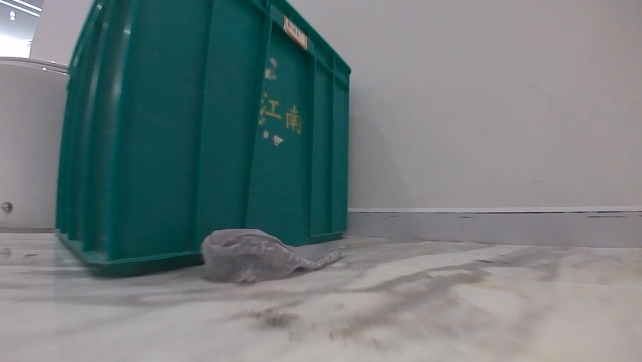socks: (197, 223, 347, 287)
toilet: (0, 53, 73, 234)
